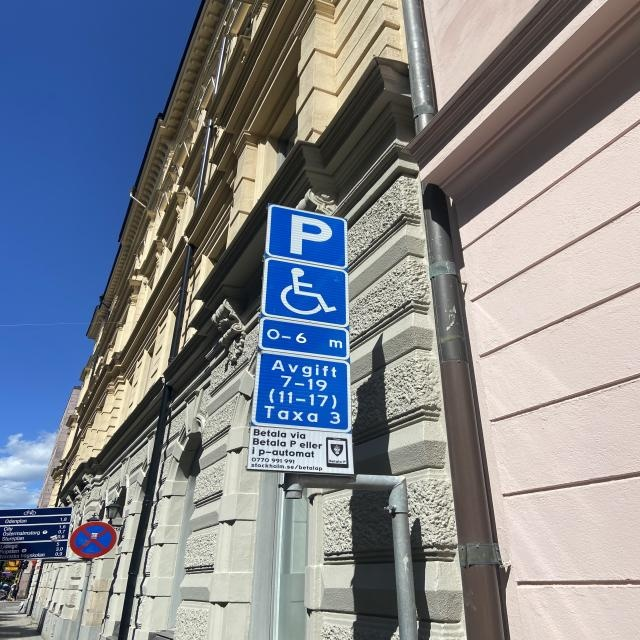P-skylt: (269, 204, 348, 267)
